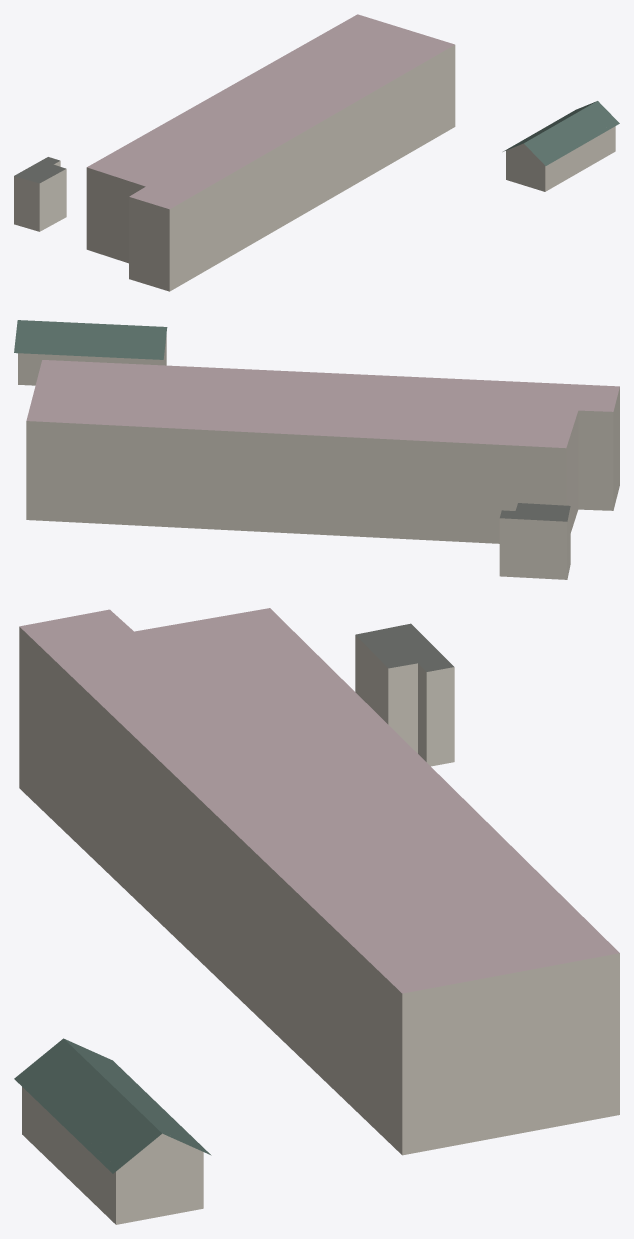
The picture shows the model from 3 angles, top to bottom: view 1: azimuth 30°, elevation 25°; view 2: azimuth 150°, elevation 25°; view 3: azimuth 270°, elevation 25°; orthographic projection. The views are drawn at different scales.
Visible parts, largest first — view 1: tuile; view 2: tuile; view 3: tuile.
Part boxes in pixels (left/top/right/bottom): tuile: left=14, top=14, right=619, bottom=291; tuile: left=14, top=320, right=619, bottom=579; tuile: left=14, top=608, right=619, bottom=1224.
Size of the model in its own units: 69.07 by 10.25 by 34.8.
